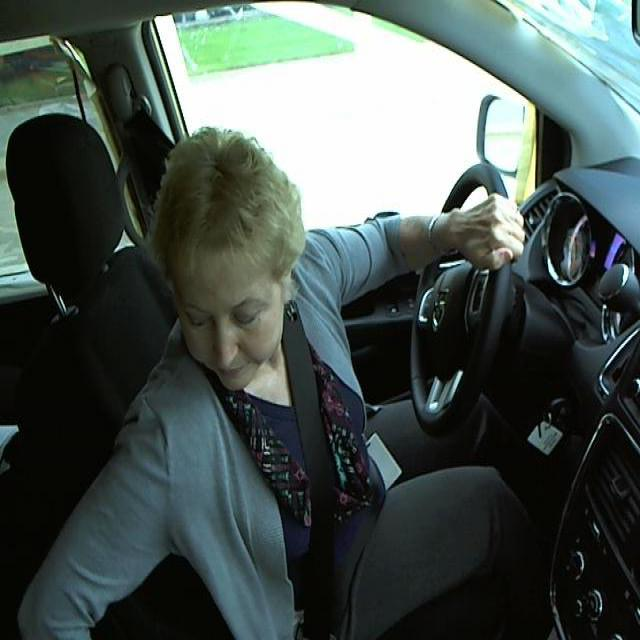seatbelt: (281, 335, 374, 568)
